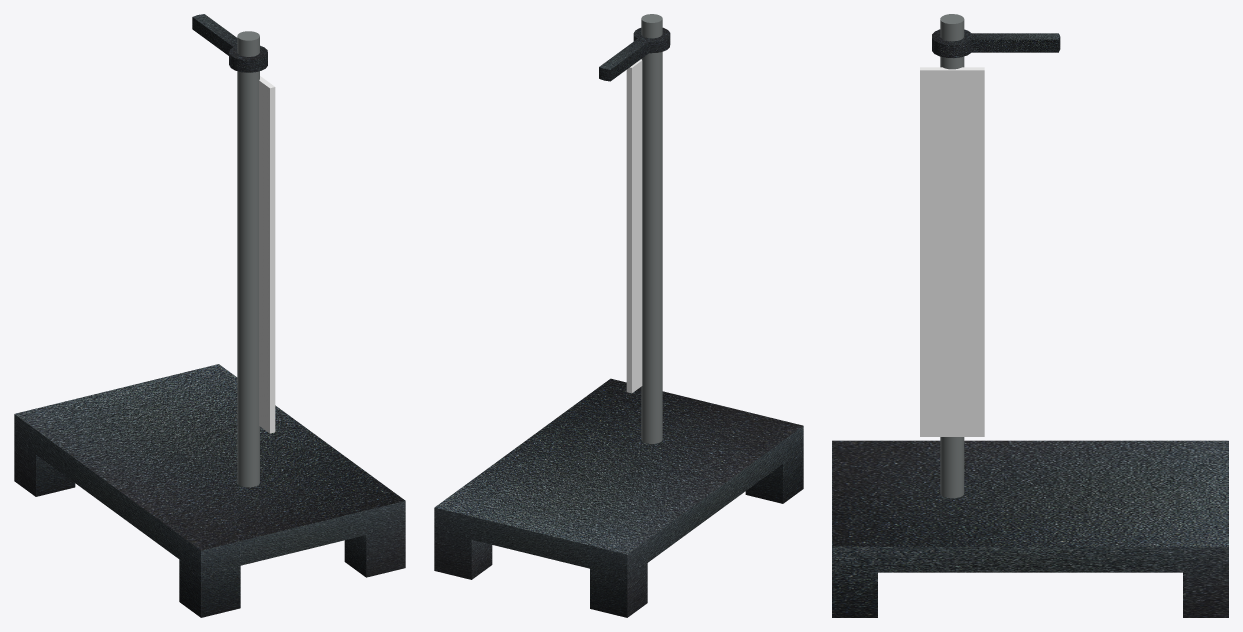
Rendered from wire_experiment.glb.
The picture shows the model from 3 angles, left to right: view 1: azimuth 30°, elevation 25°; view 2: azimuth 150°, elevation 25°; view 3: azimuth 270°, elevation 25°; orthographic projection. The views are drawn at different scales.
Parts seen in each view (by area): view 1: Plane.002, Circle.002, Plane.003, Circle.003; view 2: Plane.002, Circle.002, Plane.003, Circle.003; view 3: Plane.002, Plane.003, Circle.003, Circle.002.
Boxes of the visible parts, x1,y1,x2,y2 form: Plane.002: [14, 364, 405, 617]; Circle.002: [237, 31, 259, 487]; Plane.003: [259, 76, 275, 433]; Circle.003: [192, 14, 267, 72]; Plane.002: [434, 378, 803, 617]; Circle.002: [641, 14, 662, 443]; Plane.003: [626, 59, 642, 393]; Circle.003: [599, 27, 670, 81]; Plane.002: [832, 440, 1228, 617]; Plane.003: [920, 67, 984, 436]; Circle.003: [932, 29, 1060, 58]; Circle.002: [940, 14, 964, 498].
Bounding box in the file's own units: 0.5641 × 1.36 × 0.8925.
2 materials, 1 textured.
